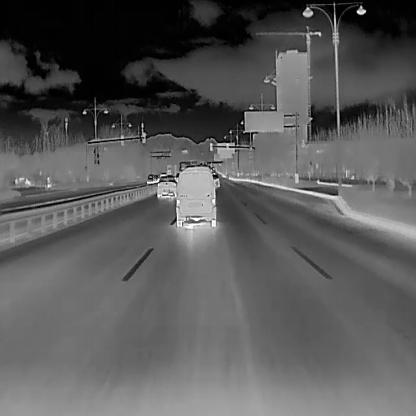car: (175, 166, 216, 226), (157, 174, 176, 198), (147, 173, 158, 184), (212, 174, 218, 186)
